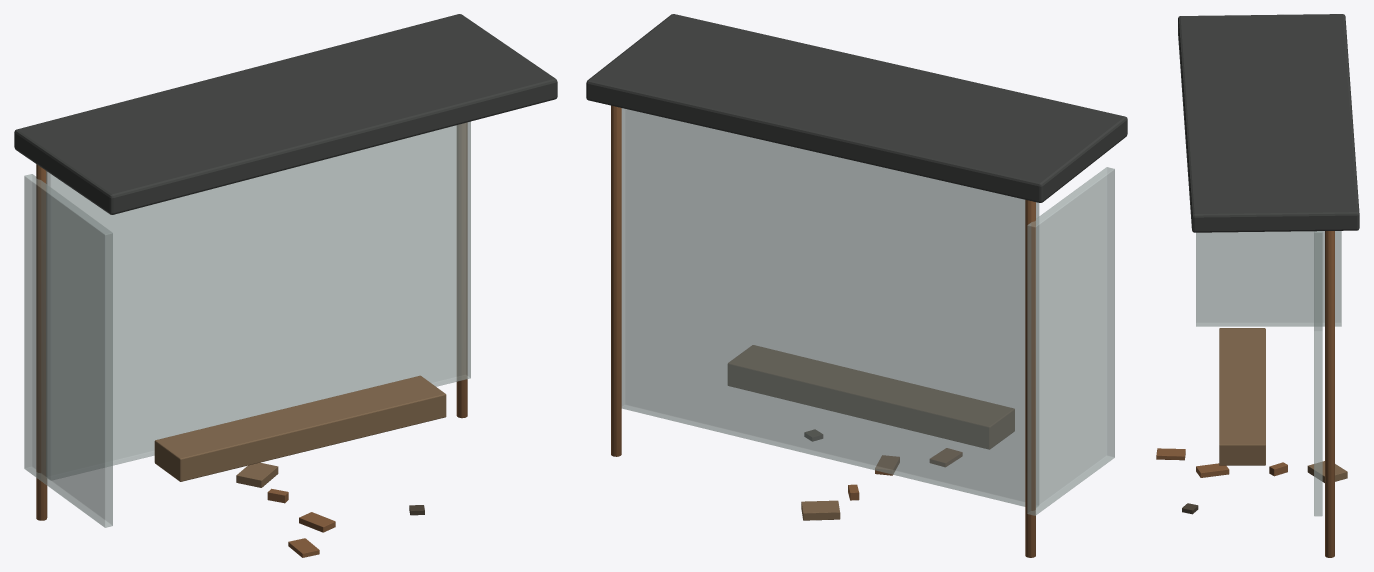
File: dz_urban_bus_stop_broken_premium.glb
The picture shows the model from 3 angles, left to right: view 1: azimuth 30°, elevation 25°; view 2: azimuth 150°, elevation 25°; view 3: azimuth 270°, elevation 25°; orthographic projection. The views are drawn at different scales.
Parts seen in each view (by area): view 1: bus_stop_back_glass, bus_stop_roof_bent, bus_stop_side_glass, bus_stop_bench_inside, bus_stop_post_-1.5, bus_stop_post_1.5, bus_stop_debris_02; view 2: bus_stop_back_glass, bus_stop_roof_bent, bus_stop_side_glass, bus_stop_bench_inside, bus_stop_post_-1.5, bus_stop_post_1.5, bus_stop_debris_02; view 3: bus_stop_roof_bent, bus_stop_side_glass, bus_stop_bench_inside, bus_stop_post_1.5, bus_stop_back_glass, bus_stop_debris_02, bus_stop_debris_00, bus_stop_debris_01.
Boxes of the visible parts, left/top/right/bottom form: bus_stop_back_glass: left=46, top=121, right=470, bottom=479; bus_stop_roof_bent: left=14, top=14, right=557, bottom=214; bus_stop_side_glass: left=24, top=174, right=112, bottom=527; bus_stop_bench_inside: left=154, top=375, right=446, bottom=481; bus_stop_post_-1.5: left=36, top=164, right=47, bottom=520; bus_stop_post_1.5: left=456, top=123, right=467, bottom=418; bus_stop_debris_02: left=236, top=462, right=278, bottom=487; bus_stop_back_glass: left=621, top=108, right=1039, bottom=507; bus_stop_roof_bent: left=586, top=14, right=1127, bottom=202; bus_stop_side_glass: left=1027, top=167, right=1114, bottom=515; bus_stop_bench_inside: left=728, top=345, right=1014, bottom=449; bus_stop_post_-1.5: left=1025, top=200, right=1035, bottom=557; bus_stop_post_1.5: left=611, top=105, right=621, bottom=456; bus_stop_debris_02: left=801, top=500, right=840, bottom=520; bus_stop_roof_bent: left=1178, top=14, right=1359, bottom=232; bus_stop_side_glass: left=1196, top=231, right=1341, bottom=326; bus_stop_bench_inside: left=1219, top=328, right=1265, bottom=465; bus_stop_post_1.5: left=1325, top=231, right=1334, bottom=557; bus_stop_back_glass: left=1314, top=231, right=1322, bottom=516; bus_stop_debris_02: left=1307, top=461, right=1347, bottom=482; bus_stop_debris_00: left=1196, top=463, right=1229, bottom=477; bus_stop_debris_01: left=1156, top=448, right=1185, bottom=460.
Bounding box in the file's own units: 3.28 × 2.72 × 1.39.
